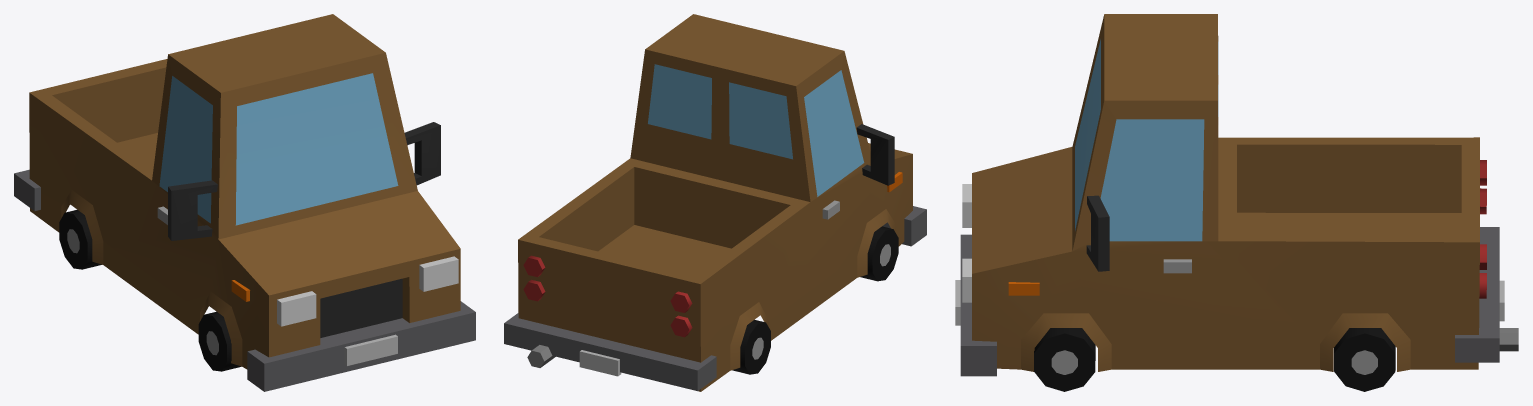
The model's file is Car_09_brown.fbx.
3 views of the same model, side by side, from view 1: azimuth 30°, elevation 25°; view 2: azimuth 150°, elevation 25°; view 3: azimuth 270°, elevation 25° (orthographic). The views are drawn at different scales.
Parts seen in each view (by area): view 1: Car_09_brown; view 2: Car_09_brown; view 3: Car_09_brown.
Part boxes in pixels (x1,y1,x2,y2): Car_09_brown: (14, 14, 475, 391); Car_09_brown: (504, 14, 926, 391); Car_09_brown: (955, 14, 1518, 391).
Bounding box in the file's own units: 65.22 × 59.58 × 110.
